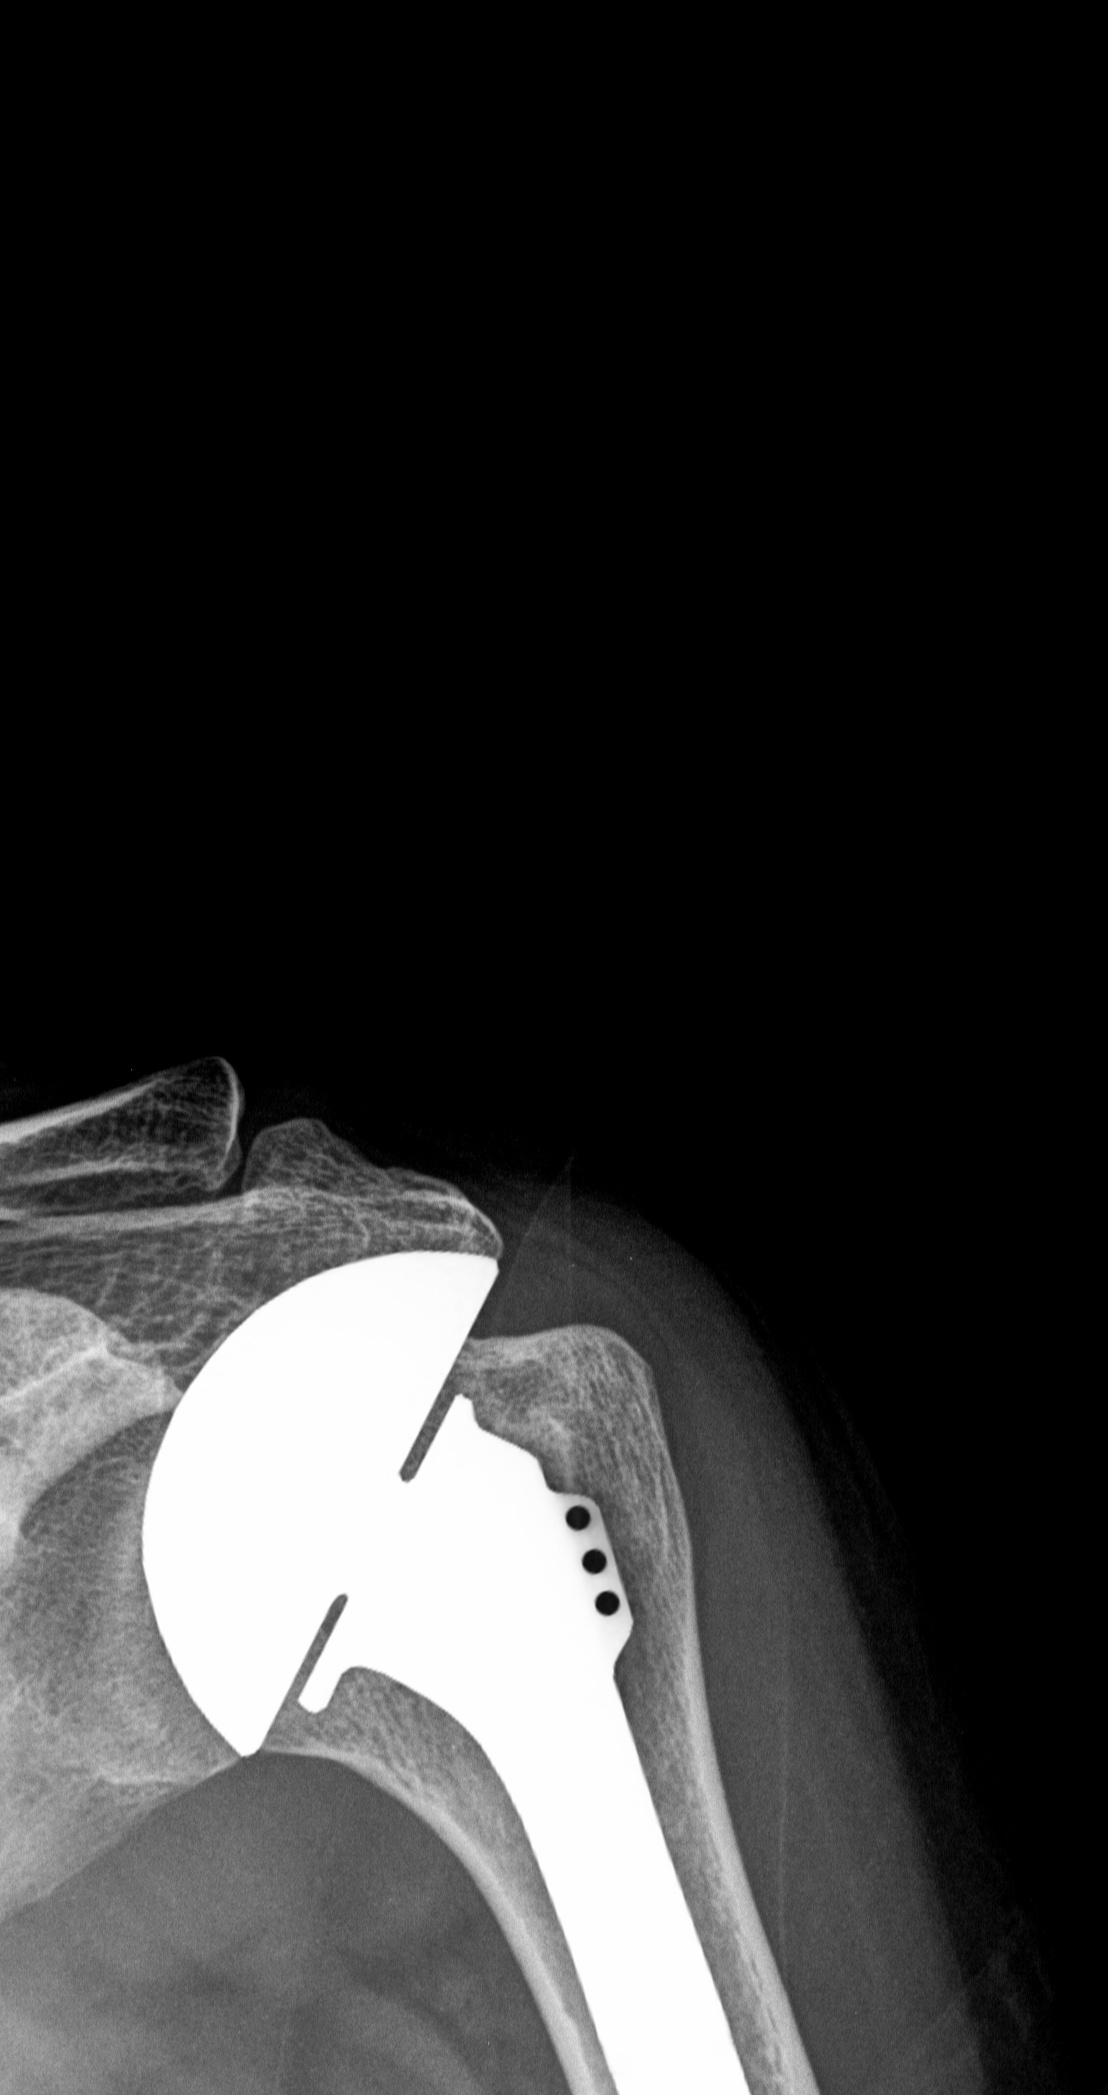Shoulder - Olympia - Wright: (118, 1230, 683, 1776)
